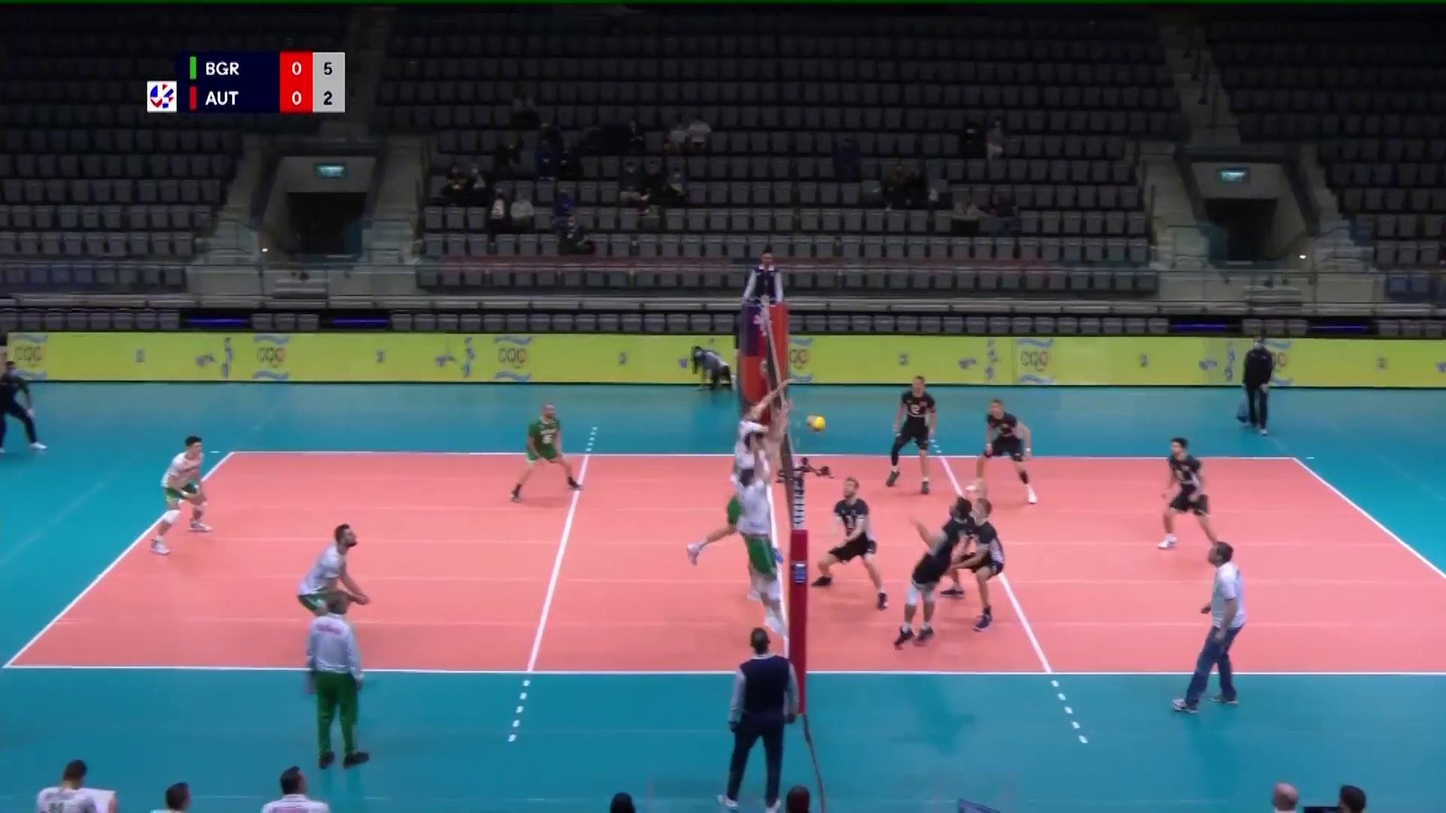ball: (808, 415, 826, 433)
